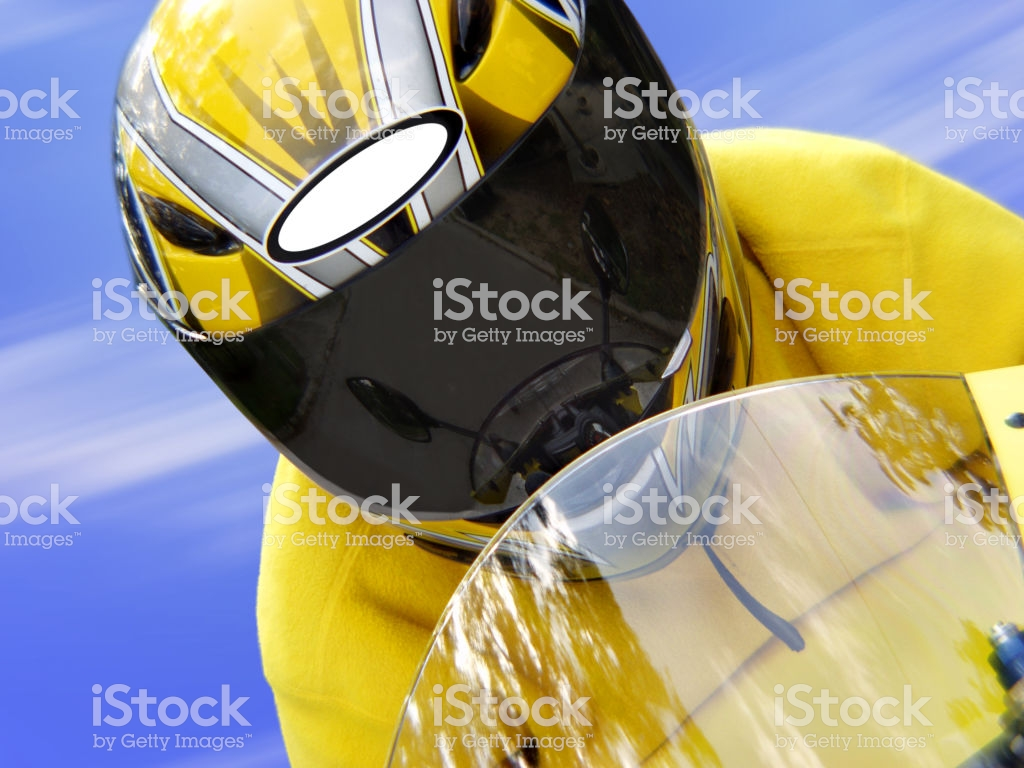helmet: (100, 2, 739, 526)
